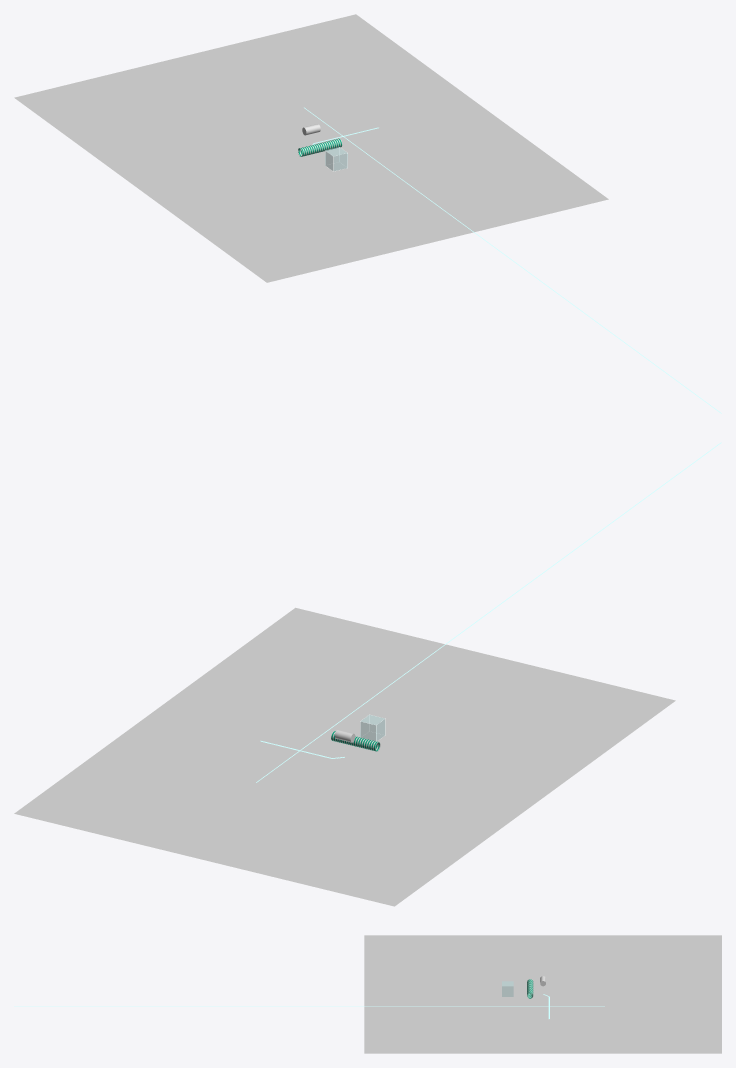
The picture shows the model from 3 angles, top to bottom: view 1: azimuth 30°, elevation 25°; view 2: azimuth 150°, elevation 25°; view 3: azimuth 270°, elevation 25°; orthographic projection. The views are drawn at different scales.
Parts seen in each view (by area): view 1: 立方体.1; view 2: 立方体.1; view 3: 立方体.1, 扫描.1.
Part boxes in pixels (bbox=[...]): 立方体.1: bbox=[14, 14, 608, 282]; 立方体.1: bbox=[14, 607, 675, 906]; 立方体.1: bbox=[364, 935, 721, 1053]; 扫描.1: bbox=[14, 1006, 604, 1006].
Size of the model in its own units: 4766 by 301 by 12082.
Materials: 5 (1 with a texture image).
